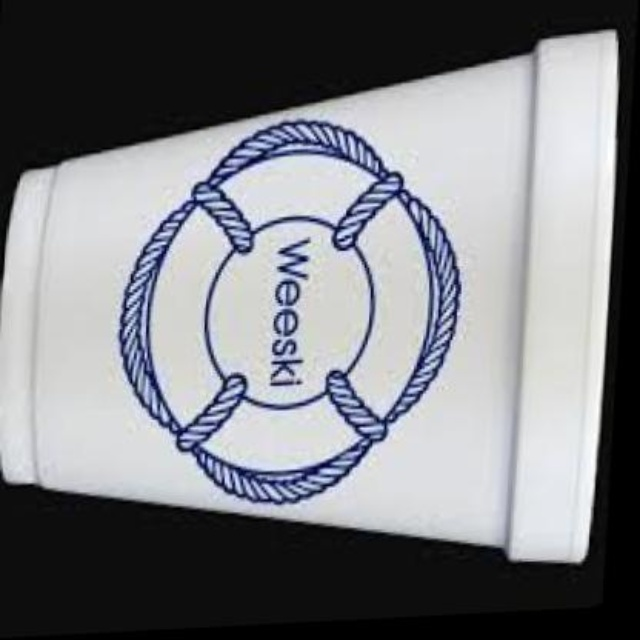trash: (0, 31, 615, 562)
